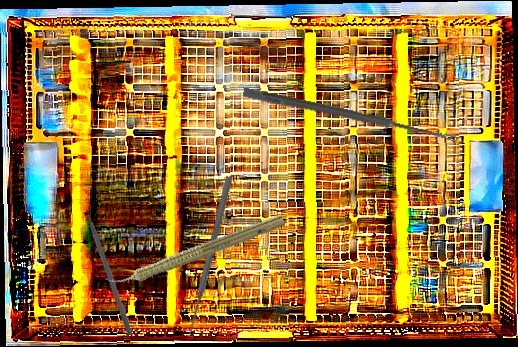Handpiece: (103, 207, 287, 296)
Pusher: (184, 175, 235, 337), (80, 198, 135, 336)
Surgical Spoon: (242, 87, 458, 144)
